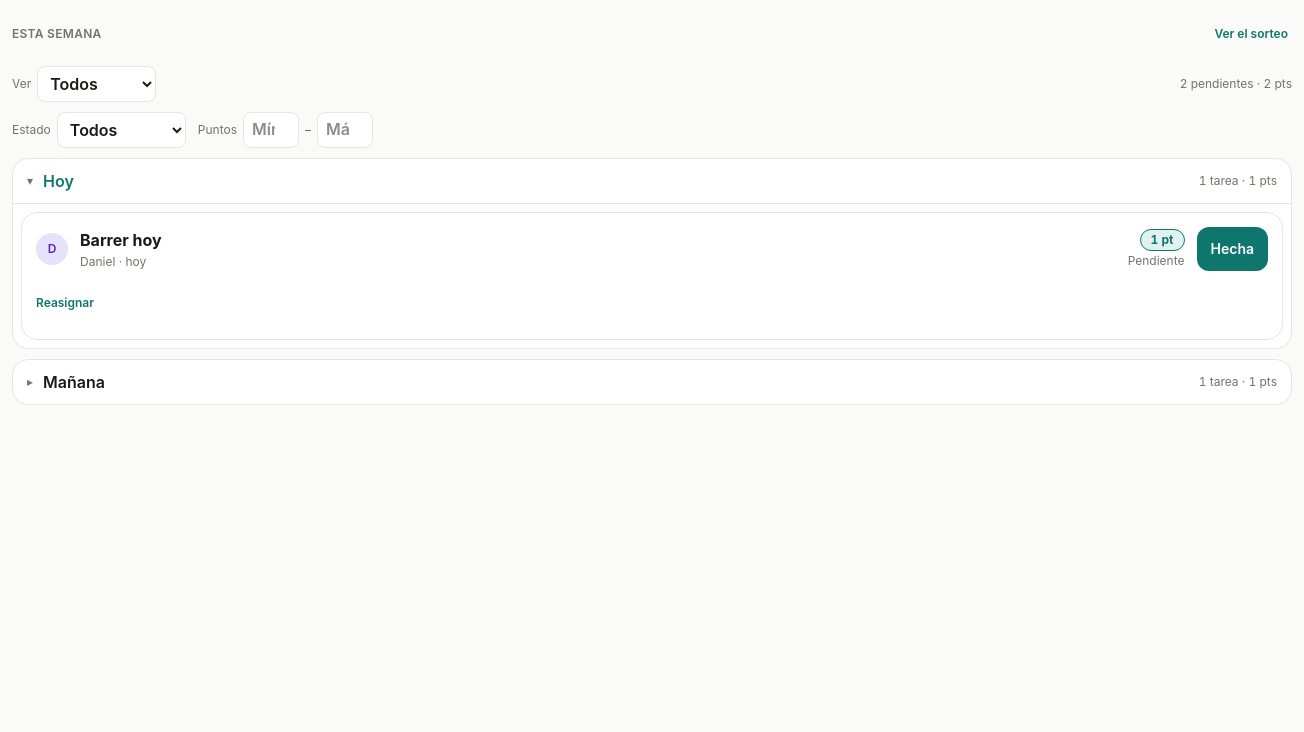
Test case: TareasClient — por día › unfolds another day when its header is tapped
What coordinates should you click on to do the following:
click the button "▸ Mañana 1 tarea · 1 pts"
I would click on:
 (74, 382)
Its box is [13,360,1291,404].
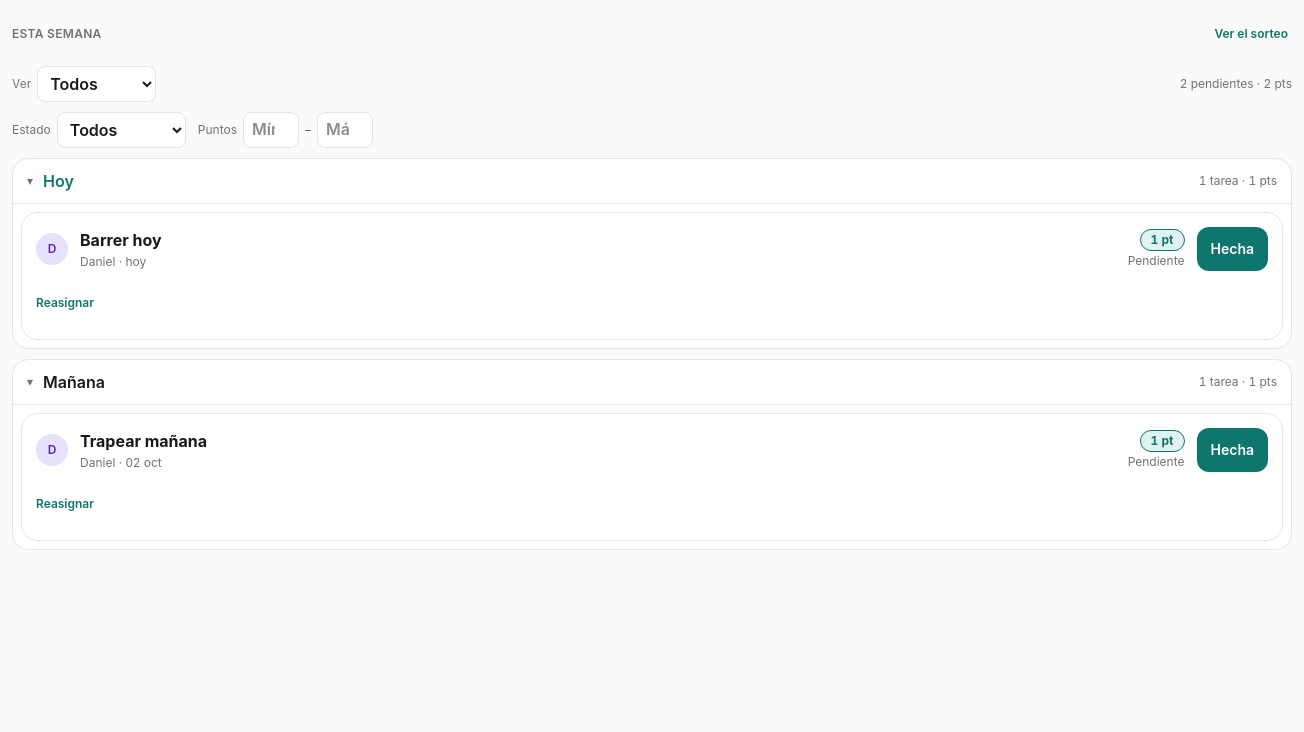
Check: the text "Trapear mañana" is shown, box [80,431,207,451]
